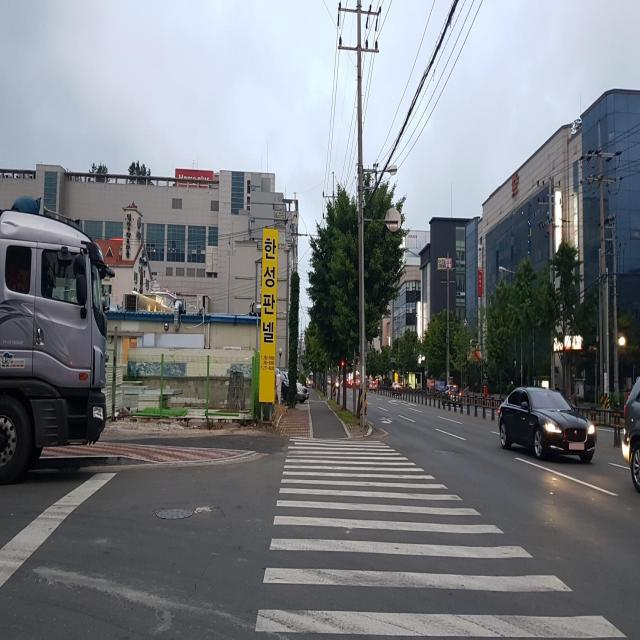횡단보도: (254, 434, 628, 640)
